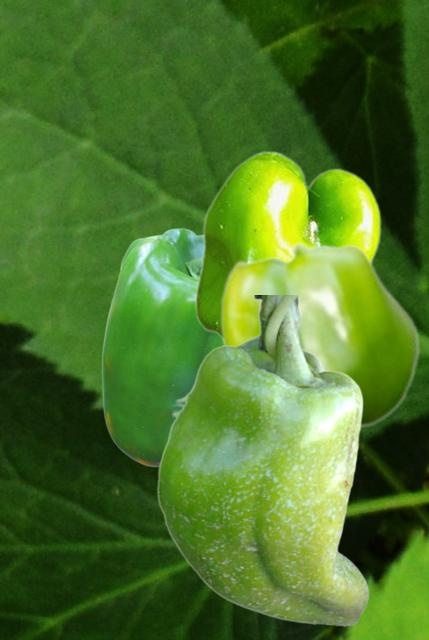bell_pepper: (156, 295, 368, 625), (220, 241, 419, 430), (194, 150, 380, 339), (101, 227, 220, 467)
